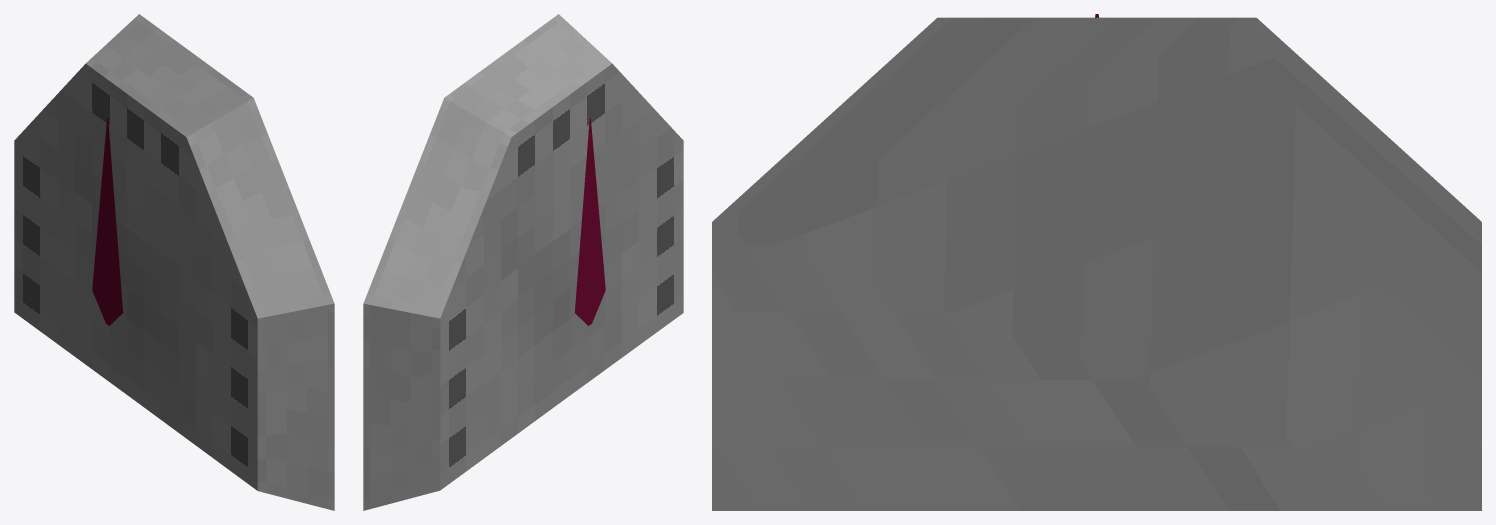
File: Hygrometer.glb
3 renders of one model, left to right at view 1: azimuth 30°, elevation 25°; view 2: azimuth 150°, elevation 25°; view 3: azimuth 270°, elevation 25°, orthographic. The views are drawn at different scales.
Visible parts, largest first — view 1: Case, Pointer; view 2: Case, Pointer; view 3: Case.
Part boxes in pixels (left/top/right/bottom): Case: left=14, top=14, right=334, bottom=510; Pointer: left=92, top=118, right=123, bottom=325; Case: left=363, top=14, right=683, bottom=510; Pointer: left=574, top=118, right=605, bottom=325; Case: left=712, top=17, right=1481, bottom=510.
Bounding box in the file's own units: 0.0254 × 0.0967 × 0.1367.
1 material, 1 textured.
